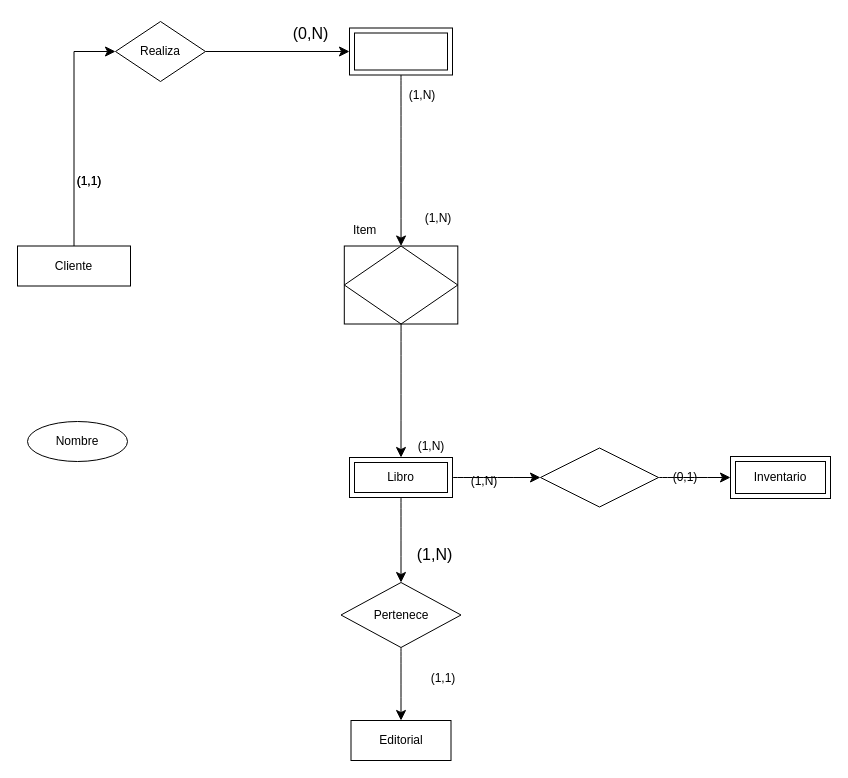
The diagram is 848 pixels wide and 778 high, and some of its shapes have lost their labels. The box of each missing label's shape, as (x1, y1, x2, y2) in pixels:
Contiene: (343, 245, 458, 324)
Existe: (540, 447, 658, 507)
Pedido: (348, 27, 452, 75)
